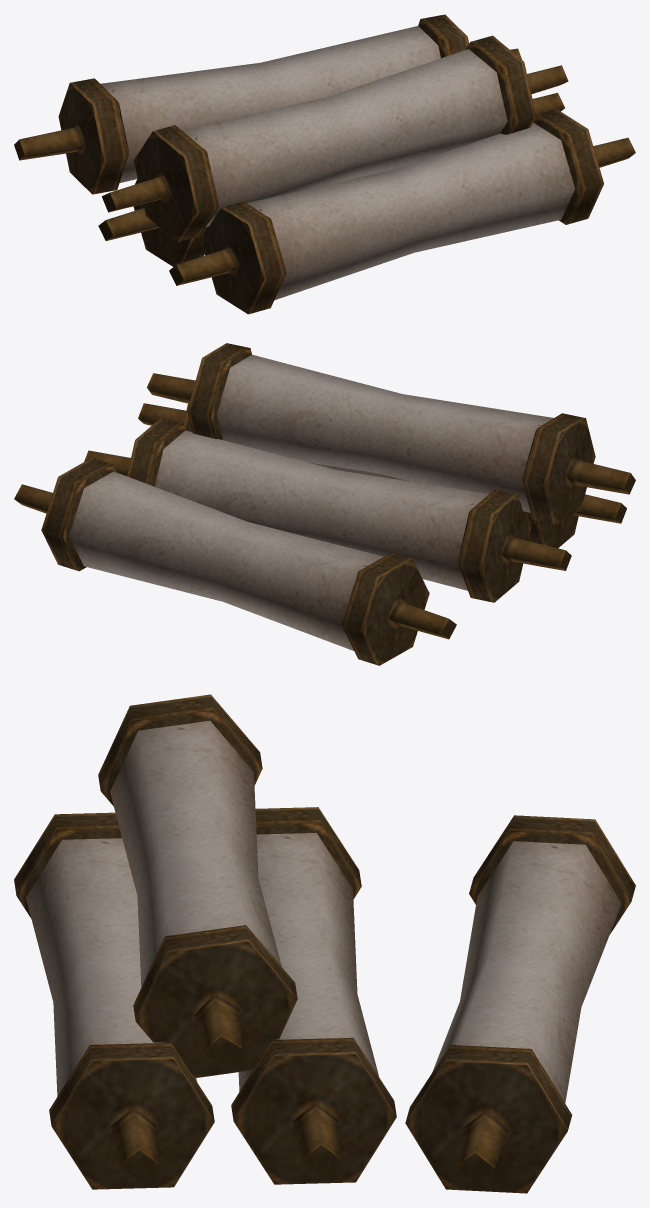
The model's file is Scrolls_04.fbx.
The picture shows the model from 3 angles, top to bottom: view 1: azimuth 30°, elevation 25°; view 2: azimuth 150°, elevation 25°; view 3: azimuth 270°, elevation 25°; orthographic projection. The views are drawn at different scales.
Parts seen in each view (by area): view 1: Scrolls_04; view 2: Scrolls_04; view 3: Scrolls_04.
Boxes of the visible parts, x1,y1,x2,y2 form: Scrolls_04: (14, 14, 635, 314); Scrolls_04: (14, 343, 635, 665); Scrolls_04: (14, 694, 635, 1193).
Bounding box in the file's own units: 0.7261 × 0.5283 × 0.2058.
